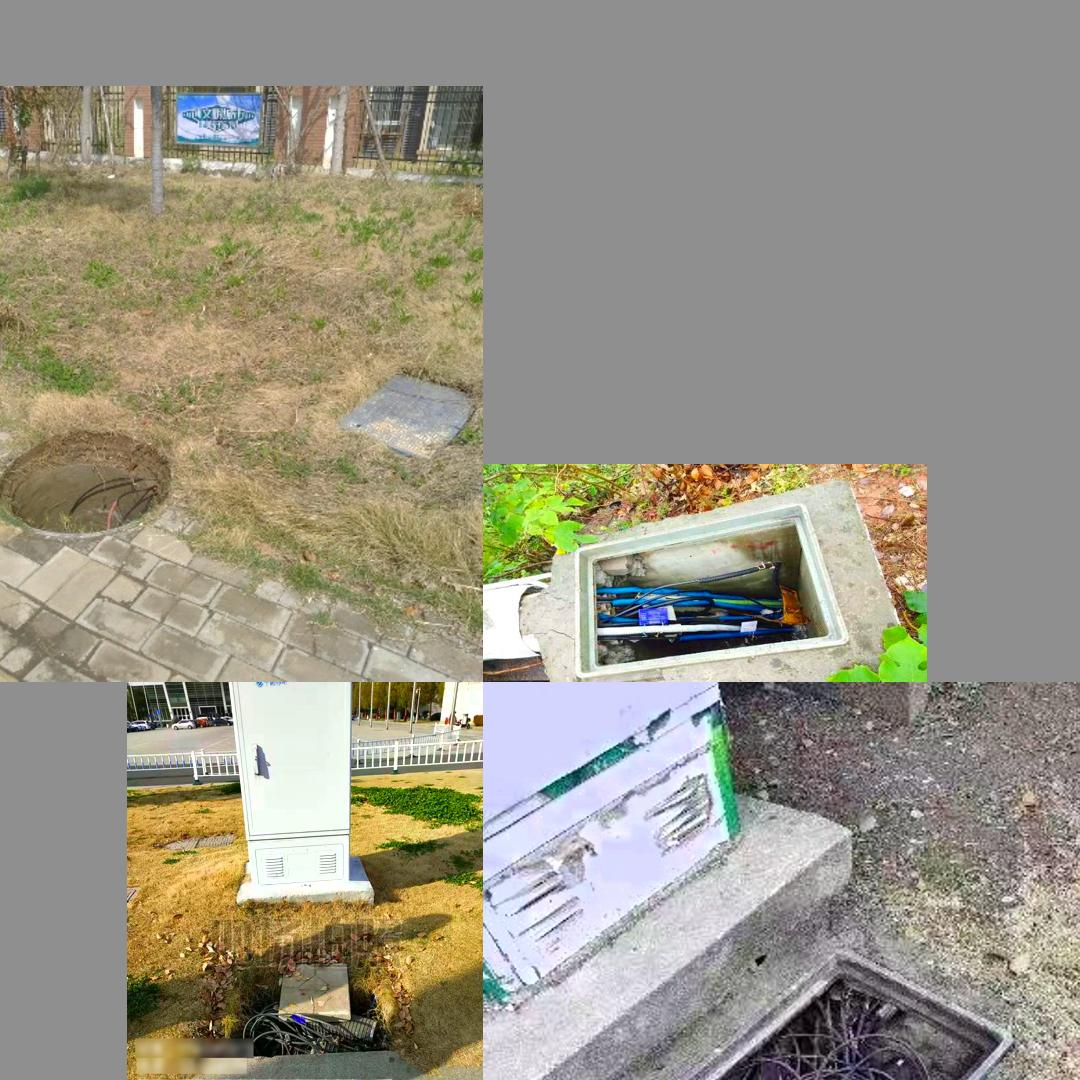lose: (553, 964, 1016, 1080), (574, 503, 849, 679), (0, 413, 172, 544), (202, 954, 399, 1059)
